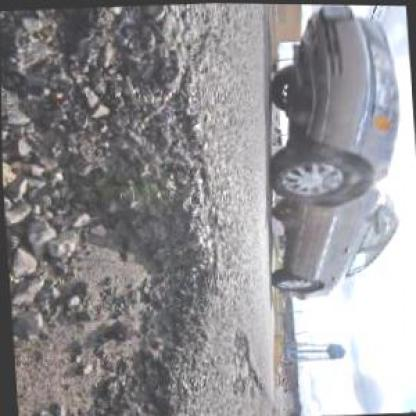pothole: (228, 326, 249, 369)
